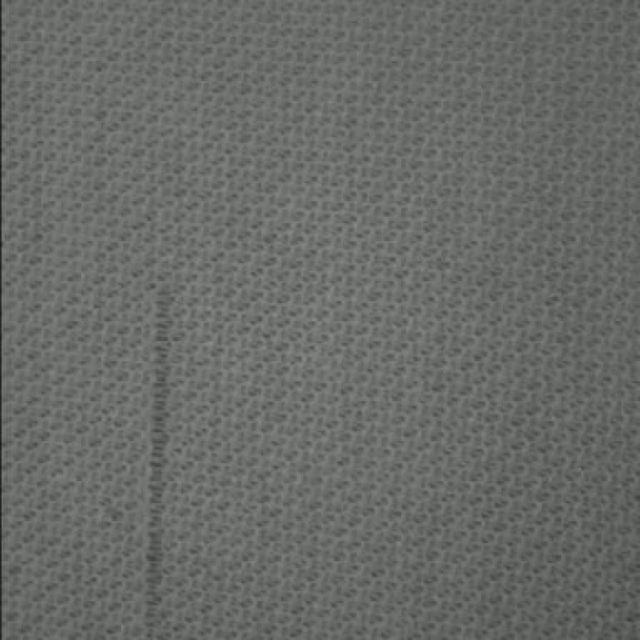Line: (141, 290, 174, 640)
